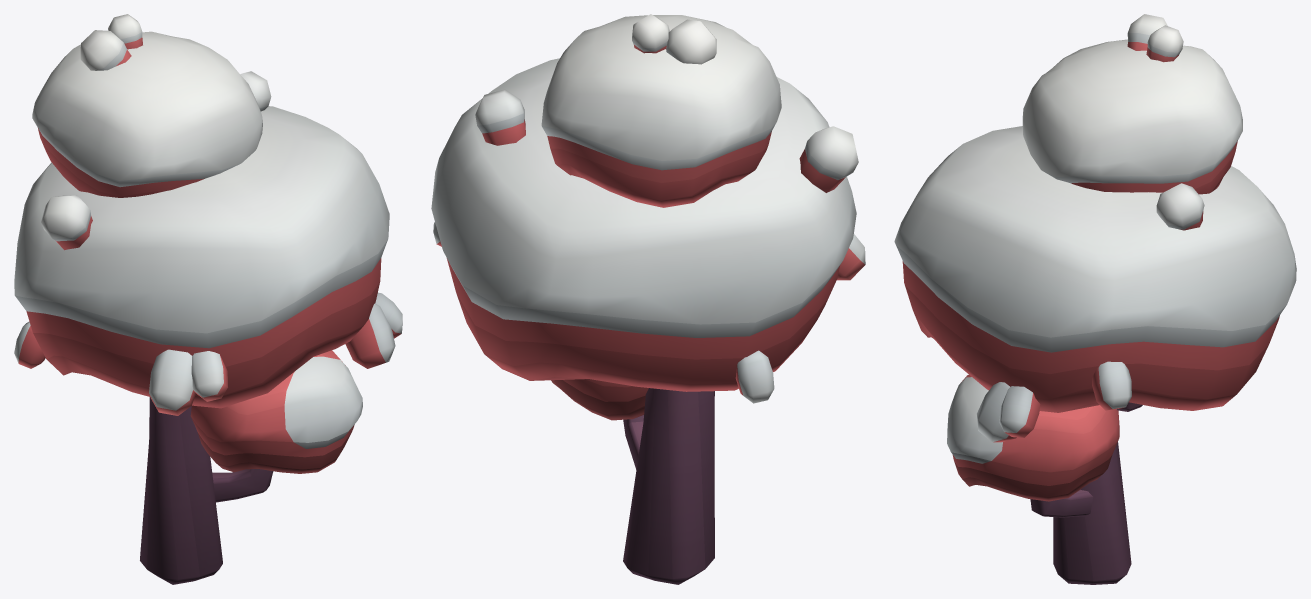
The model's file is grassland_tree_col3_2_snow.fbx.
The picture shows the model from 3 angles, left to right: view 1: azimuth 30°, elevation 25°; view 2: azimuth 150°, elevation 25°; view 3: azimuth 270°, elevation 25°; orthographic projection. The views are drawn at different scales.
Parts seen in each view (by area): view 1: grassland_tree_col3_2_snow; view 2: grassland_tree_col3_2_snow; view 3: grassland_tree_col3_2_snow.
Boxes of the visible parts, x1,y1,x2,y2 form: grassland_tree_col3_2_snow: (14, 14, 402, 584); grassland_tree_col3_2_snow: (431, 14, 865, 584); grassland_tree_col3_2_snow: (894, 14, 1296, 584).
Bounding box in the file's own units: 432 × 621 × 422.
